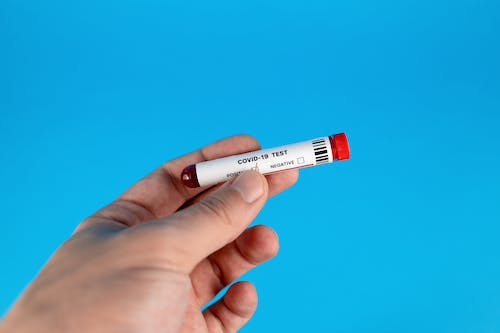blood: (180, 164, 201, 188)
